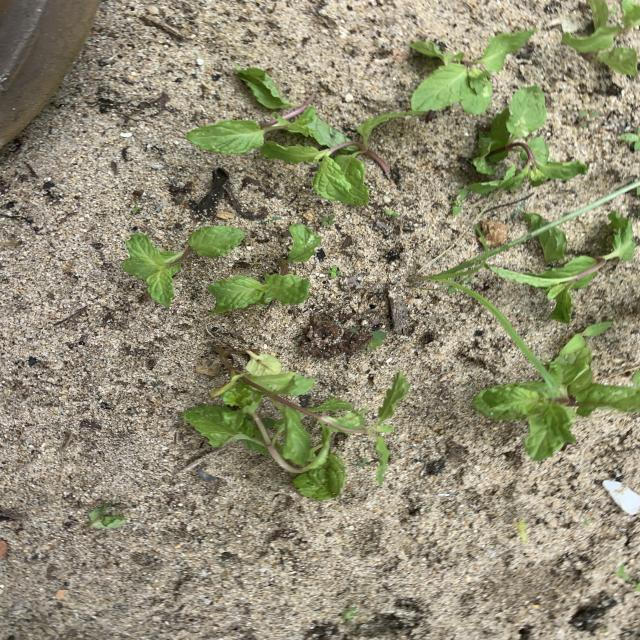crop: (183, 347, 409, 500), (189, 68, 390, 204), (473, 334, 639, 459), (496, 214, 632, 320), (470, 86, 585, 193), (411, 31, 533, 111), (208, 224, 320, 311), (122, 226, 243, 305), (563, 1, 639, 75)
weed: (409, 182, 640, 399), (85, 504, 125, 529), (452, 188, 468, 214), (621, 128, 639, 151), (367, 330, 386, 350), (578, 110, 599, 127), (341, 607, 358, 625), (515, 521, 527, 542), (328, 266, 340, 277), (322, 215, 334, 224), (385, 210, 399, 217)
